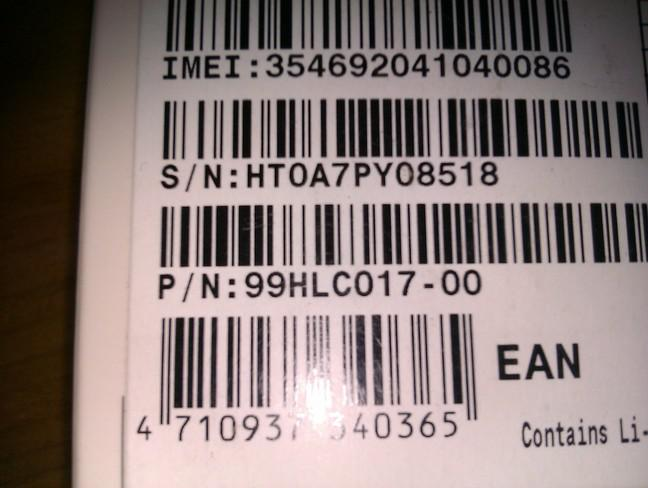Barkod: (121, 300, 498, 447)
